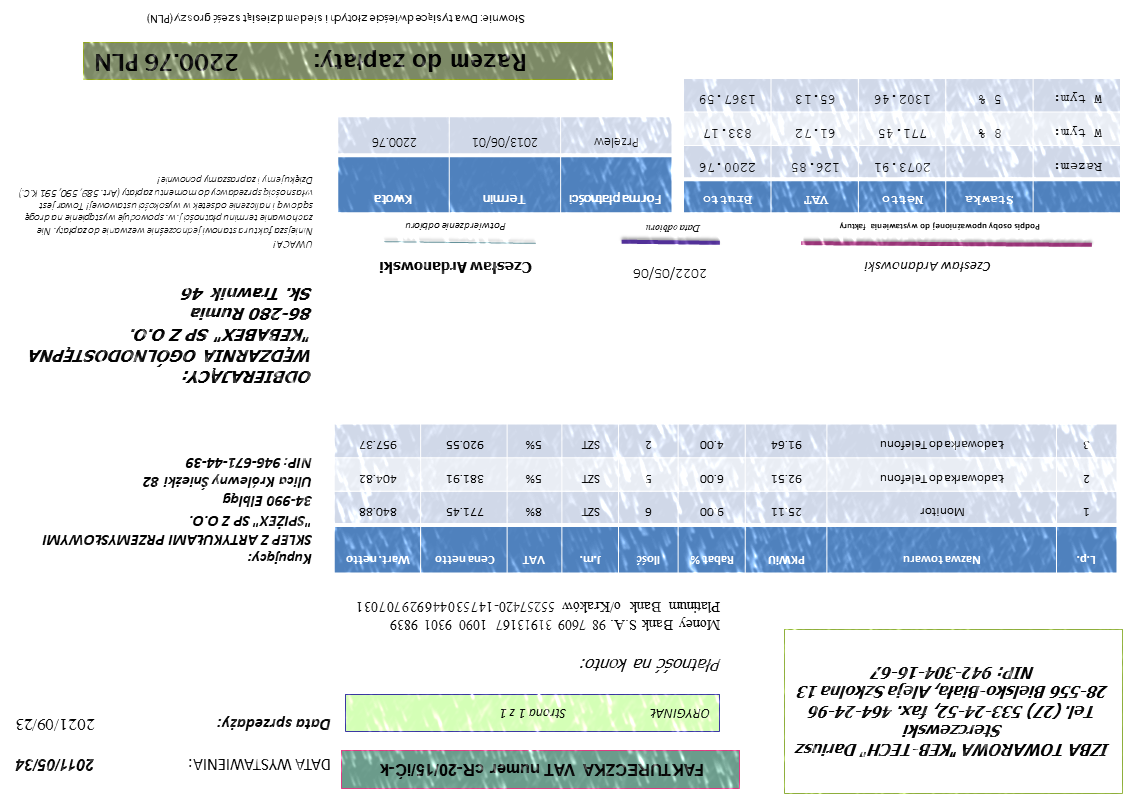Table: (332, 422, 1119, 576), (682, 77, 1122, 215), (336, 115, 674, 216)
TextBox: (37, 453, 316, 570), (793, 661, 1113, 763), (25, 283, 315, 387), (16, 172, 316, 254), (353, 598, 725, 636), (92, 47, 530, 76), (144, 9, 529, 28), (376, 760, 706, 782), (498, 704, 714, 725), (577, 654, 725, 677), (376, 258, 536, 279), (836, 220, 1045, 235), (187, 755, 334, 776), (861, 258, 993, 278), (215, 713, 333, 735), (12, 755, 97, 776), (14, 715, 98, 735), (403, 219, 510, 234), (632, 264, 709, 283), (643, 222, 705, 236)
